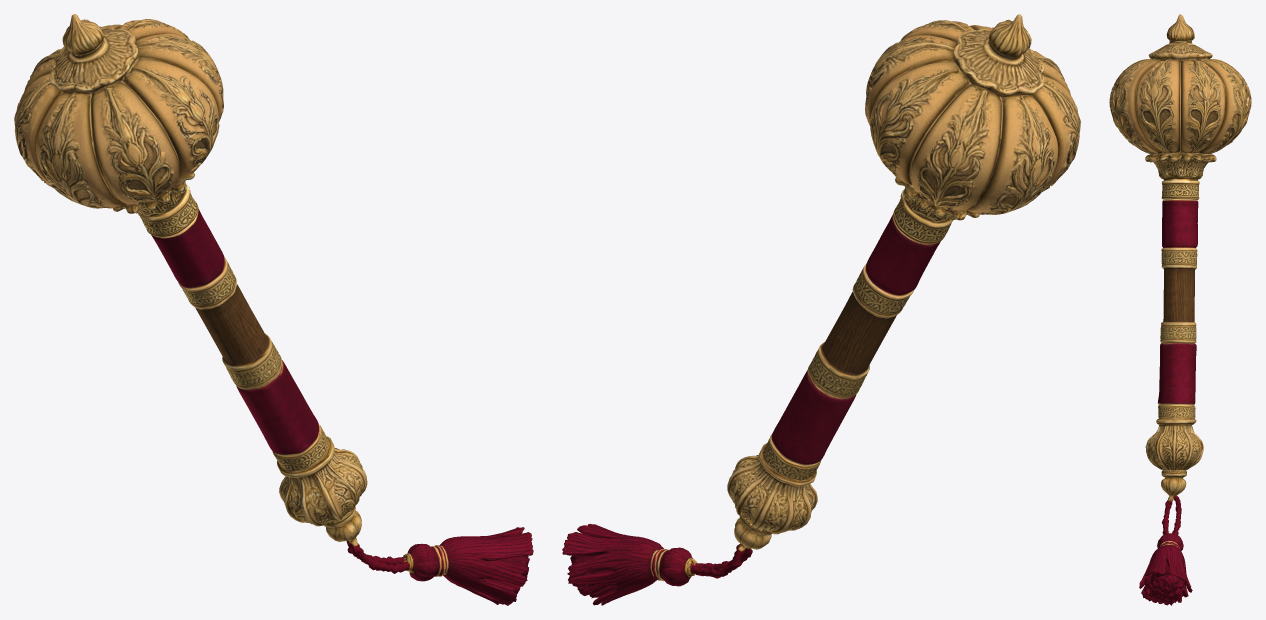
File: Tören gürzü.glb
The picture shows the model from 3 angles, left to right: view 1: azimuth 30°, elevation 25°; view 2: azimuth 150°, elevation 25°; view 3: azimuth 270°, elevation 25°; orthographic projection. The views are drawn at different scales.
Visible parts, largest first — view 1: tripo_node_36a37f27-8d8c-4f95-8f46-e99698880d68; view 2: tripo_node_36a37f27-8d8c-4f95-8f46-e99698880d68; view 3: tripo_node_36a37f27-8d8c-4f95-8f46-e99698880d68.
Part boxes in pixels (<box>): tripo_node_36a37f27-8d8c-4f95-8f46-e99698880d68: <box>14,14,533,605</box>; tripo_node_36a37f27-8d8c-4f95-8f46-e99698880d68: <box>562,14,1080,605</box>; tripo_node_36a37f27-8d8c-4f95-8f46-e99698880d68: <box>1109,14,1251,605</box>.
Size of the model in its own units: 0.7362 by 0.9835 by 0.2773.
Materials: 1 (1 with a texture image).
